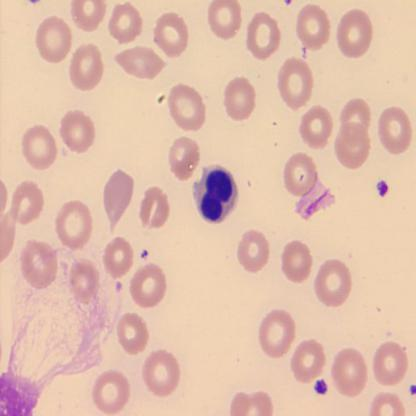NRC: (191, 162, 239, 226)
